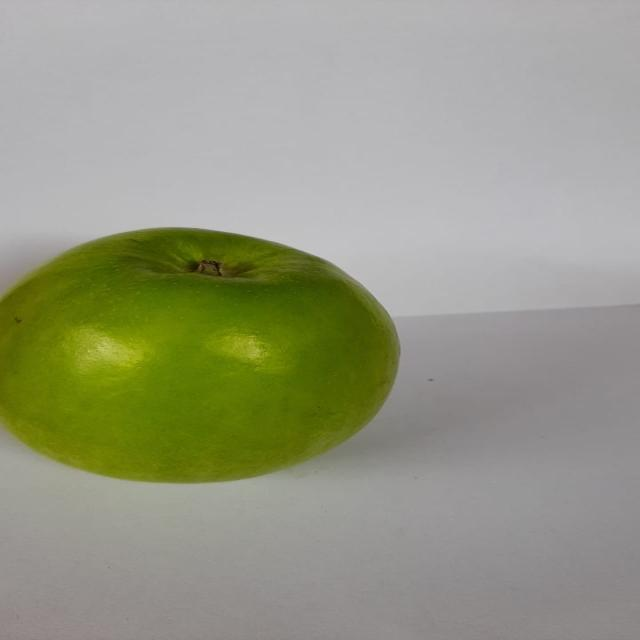50-_ripeness: (6, 213, 418, 495)
